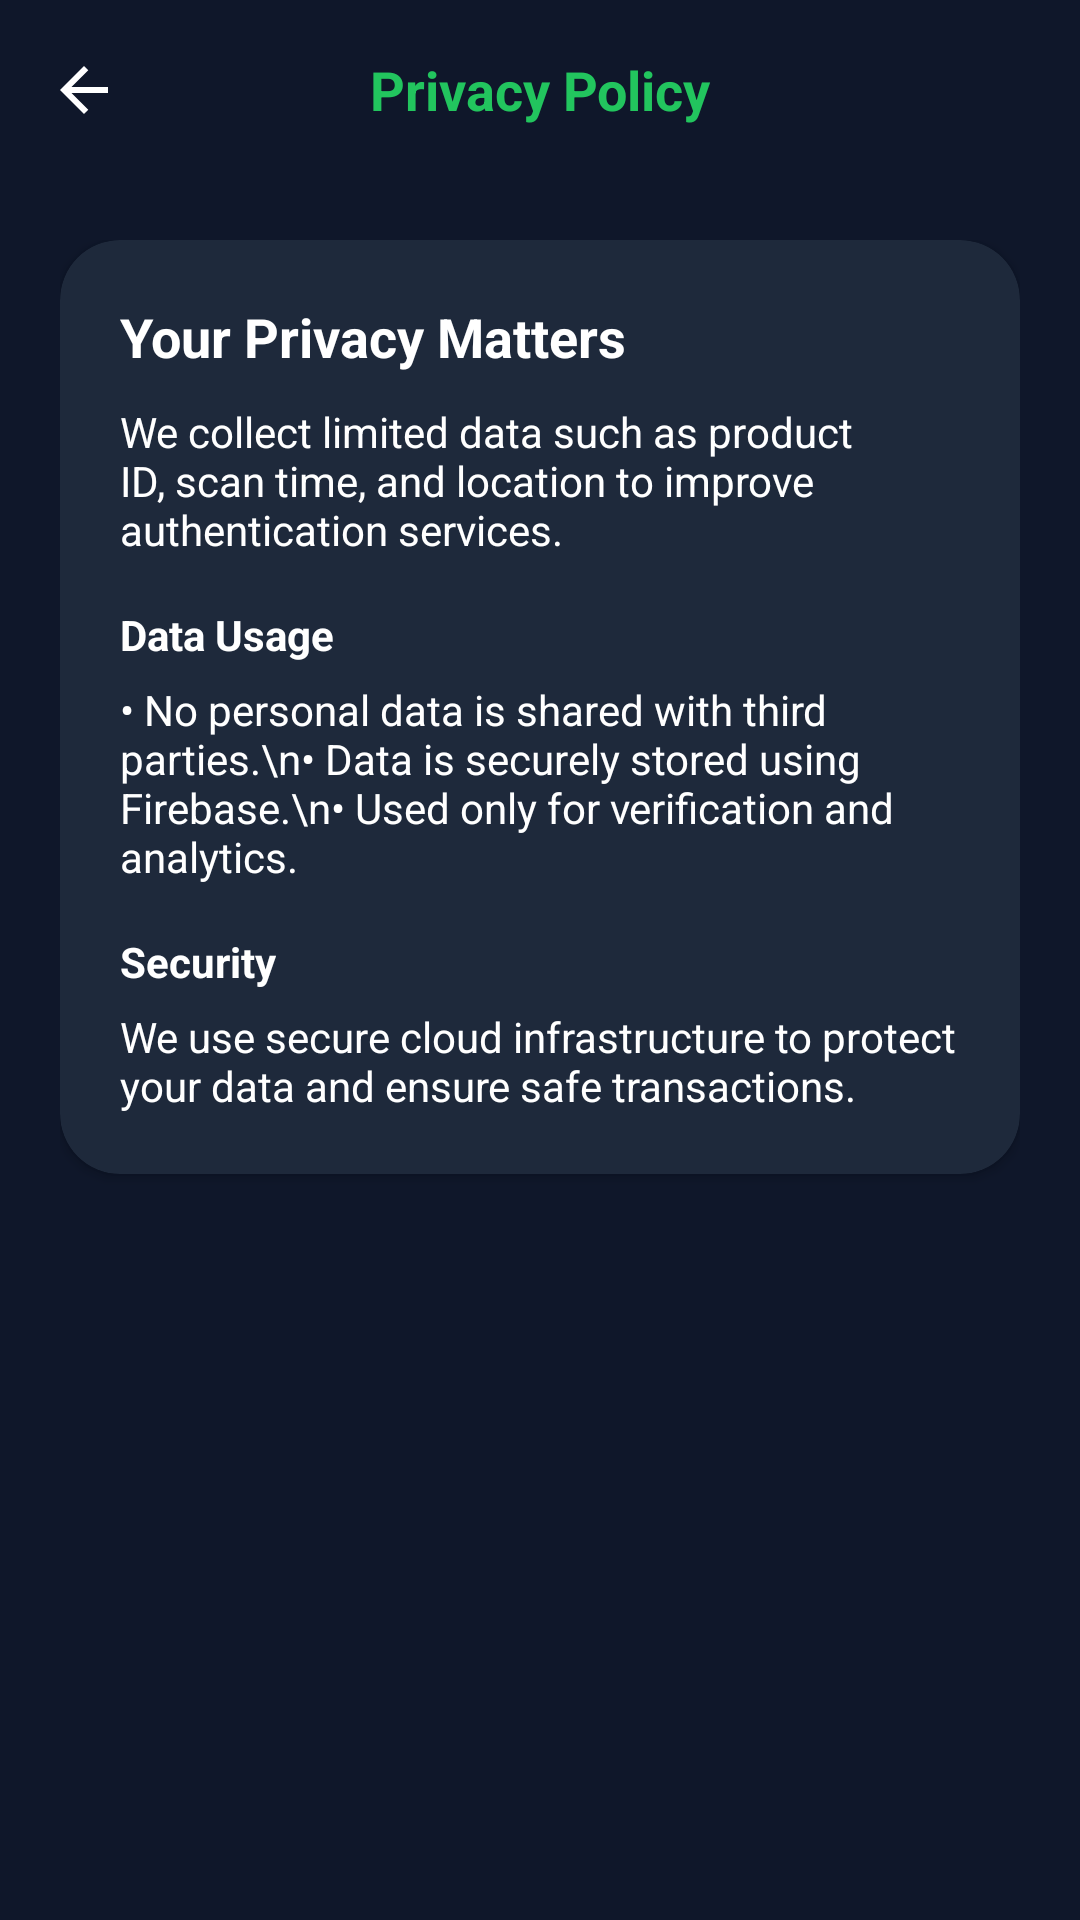

Icons on this 1080 × 1920 Android screen, each with the point to tap as point (x, y):
back: point (84, 90)
